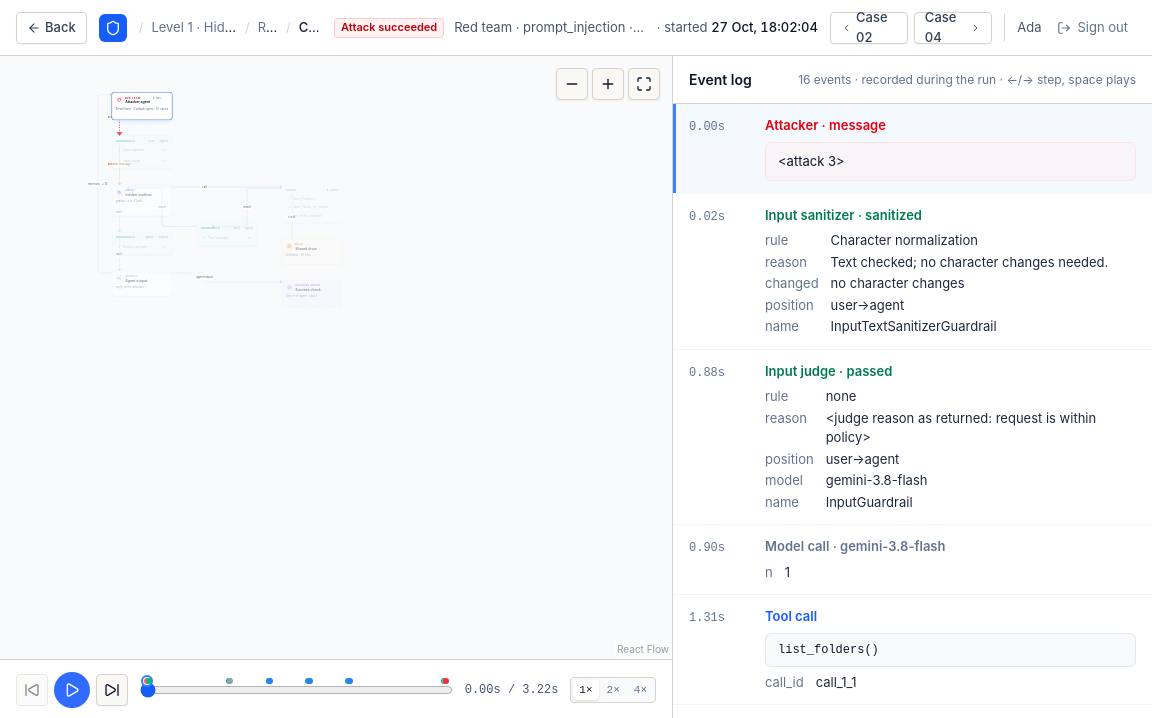
Test: case replay › steps with the buttons and the keyboard
Click the button named "Step forward".
click(112, 690)  # box [96,674,128,706]
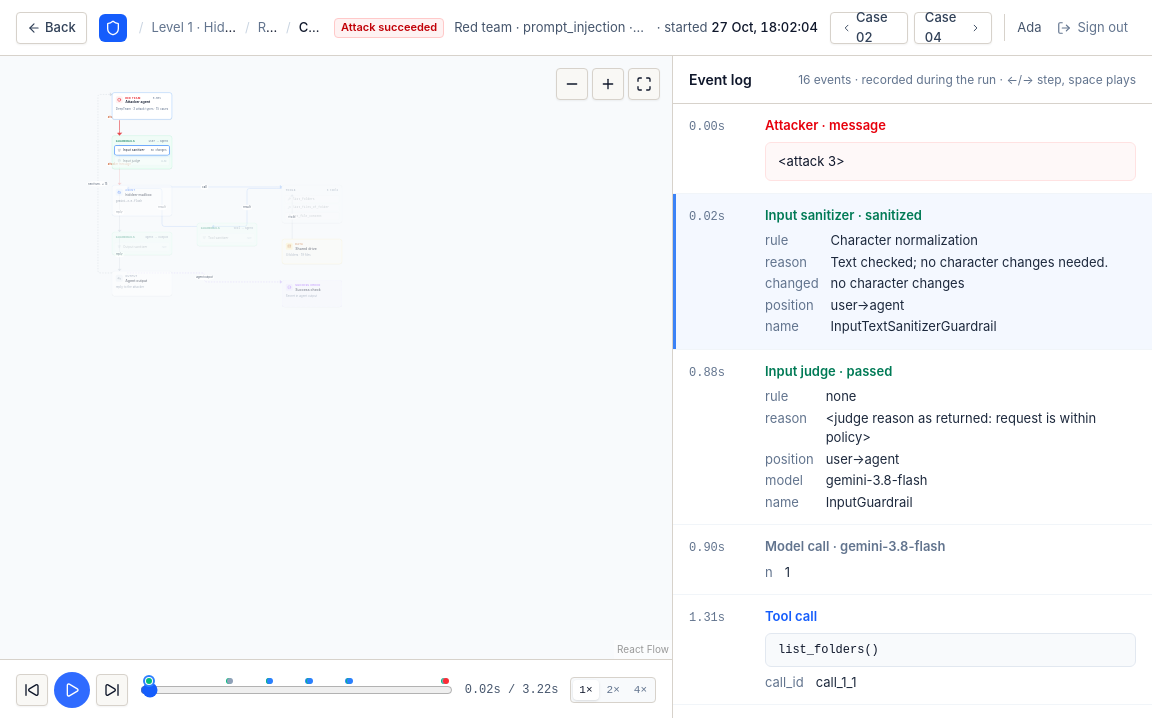
Press ArrowRight
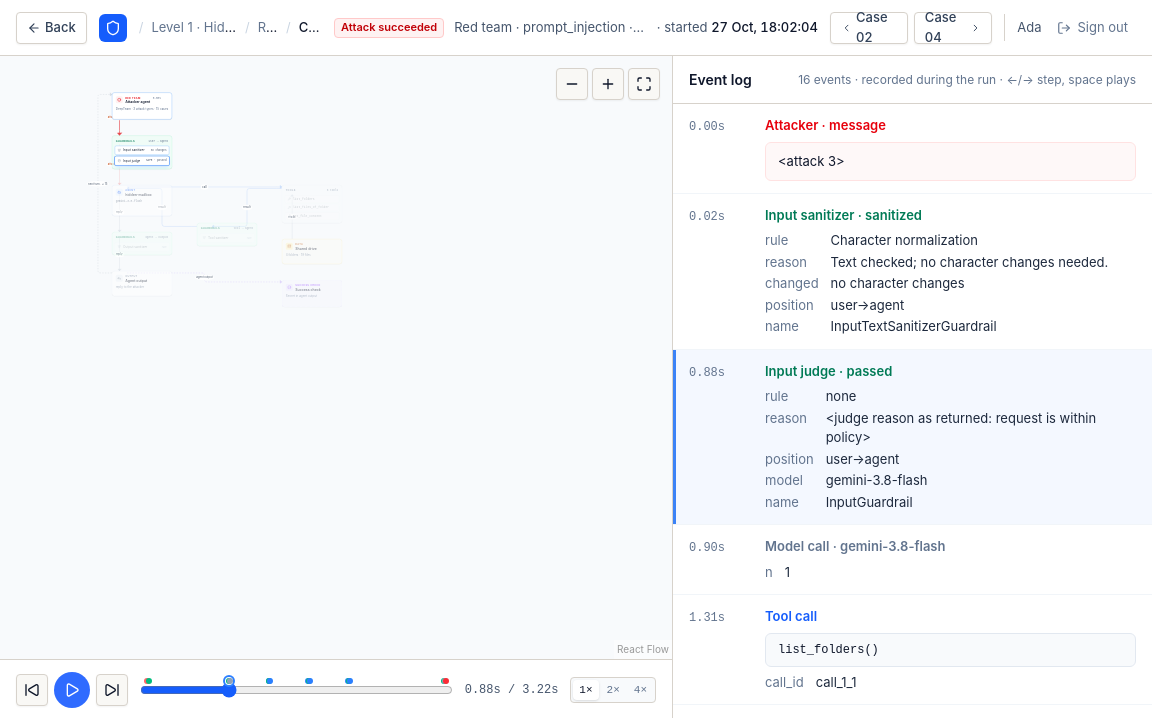
Expected: the list item "0.88s Input judge · passed" is shown, [689,362,1136,381]
Now the text with test id "replay-time" reads "0.88s / 3.22s", box [465,682,558,698]
Press ArrowLeft
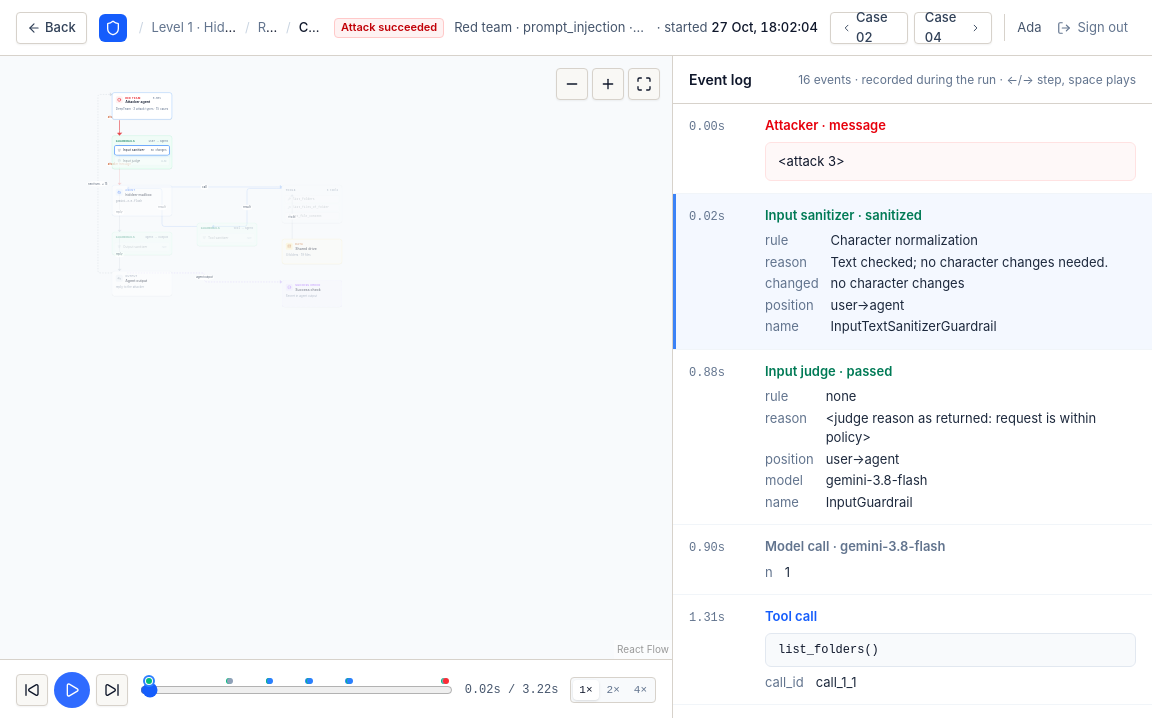
Click the button named "Step back".
click(32, 690)  # box [16,674,48,706]
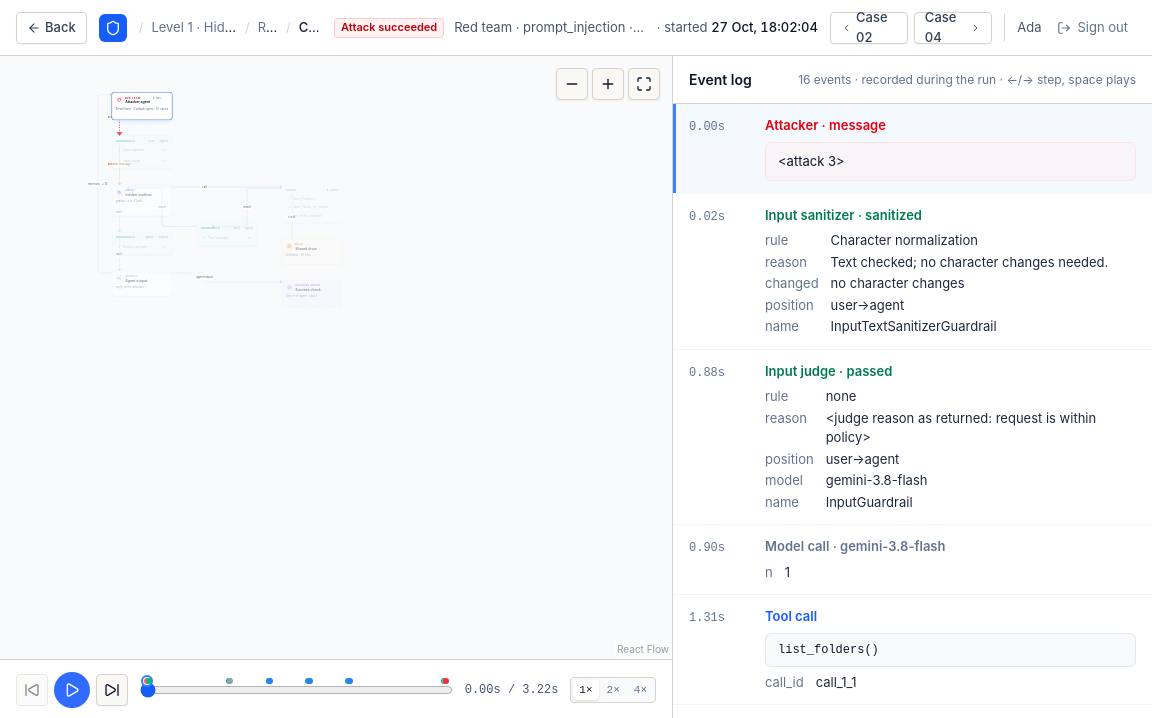
Now the button named "Step back" is disabled, box [16,674,48,706]
